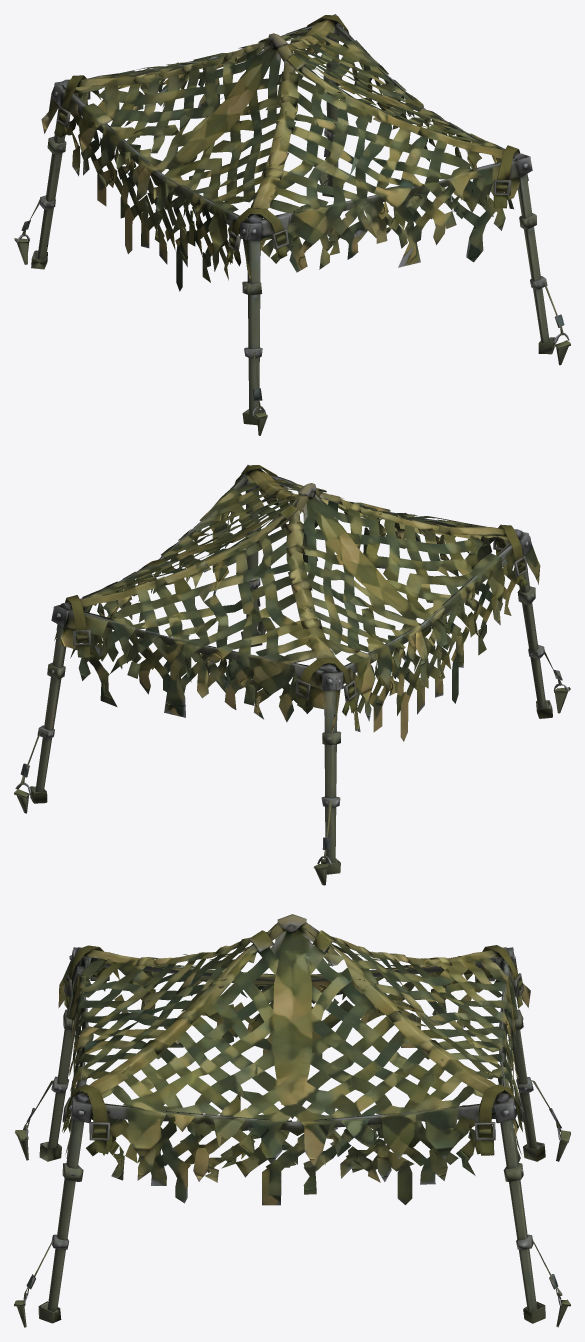
The model's file is canopy.glb.
The picture shows the model from 3 angles, top to bottom: view 1: azimuth 30°, elevation 25°; view 2: azimuth 150°, elevation 25°; view 3: azimuth 270°, elevation 25°; orthographic projection. The views are drawn at different scales.
Visible parts, largest first — view 1: canopy; view 2: canopy; view 3: canopy.
Boxes of the visible parts, x1,y1,x2,y2 form: canopy: (14,14,570,435); canopy: (14,465,570,885); canopy: (14,914,570,1327).
Bounding box in the file's own units: 0.7065 × 0.6035 × 0.9497.
Materials: 1 (1 with a texture image).
